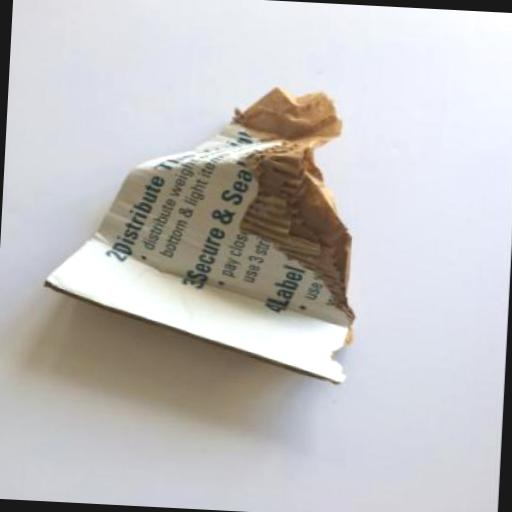cardboard: (44, 74, 369, 385)
